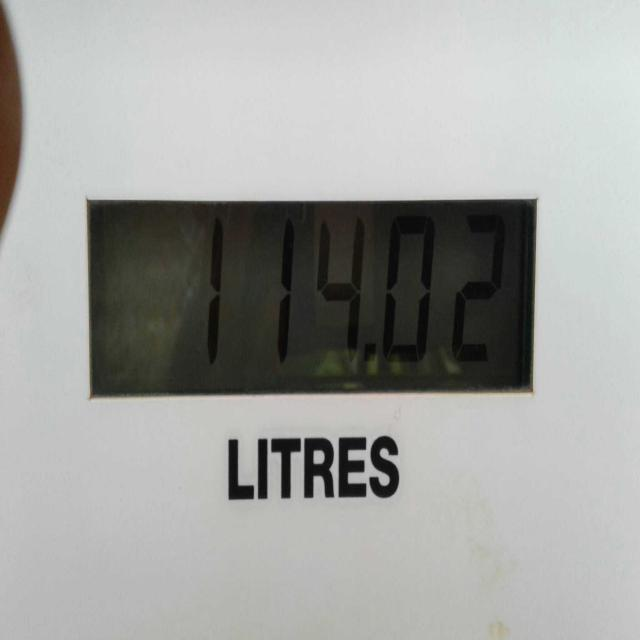.: (356, 331, 376, 375)
0: (378, 209, 438, 364)
1: (194, 211, 239, 373), (262, 203, 299, 369)
2: (447, 209, 508, 375)
4: (312, 210, 362, 373)
